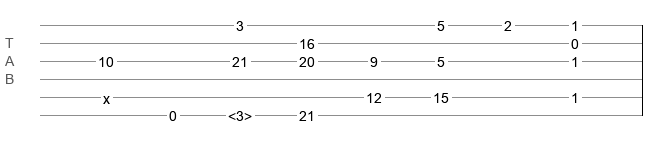0: (169, 108, 177, 118), (571, 36, 579, 46)
1: (571, 18, 579, 28), (571, 90, 579, 100), (571, 54, 579, 64)
10: (98, 54, 114, 64)
12: (366, 90, 382, 100)
15: (433, 90, 449, 100)
16: (299, 36, 315, 46)
2: (504, 18, 512, 28)
20: (299, 54, 315, 64)
21: (232, 54, 248, 64), (299, 108, 315, 118)
3: (236, 18, 244, 28)
5: (437, 18, 445, 28), (437, 54, 445, 64)
9: (370, 54, 378, 64)
harmonic: (228, 108, 252, 118)
x: (103, 91, 110, 99)
